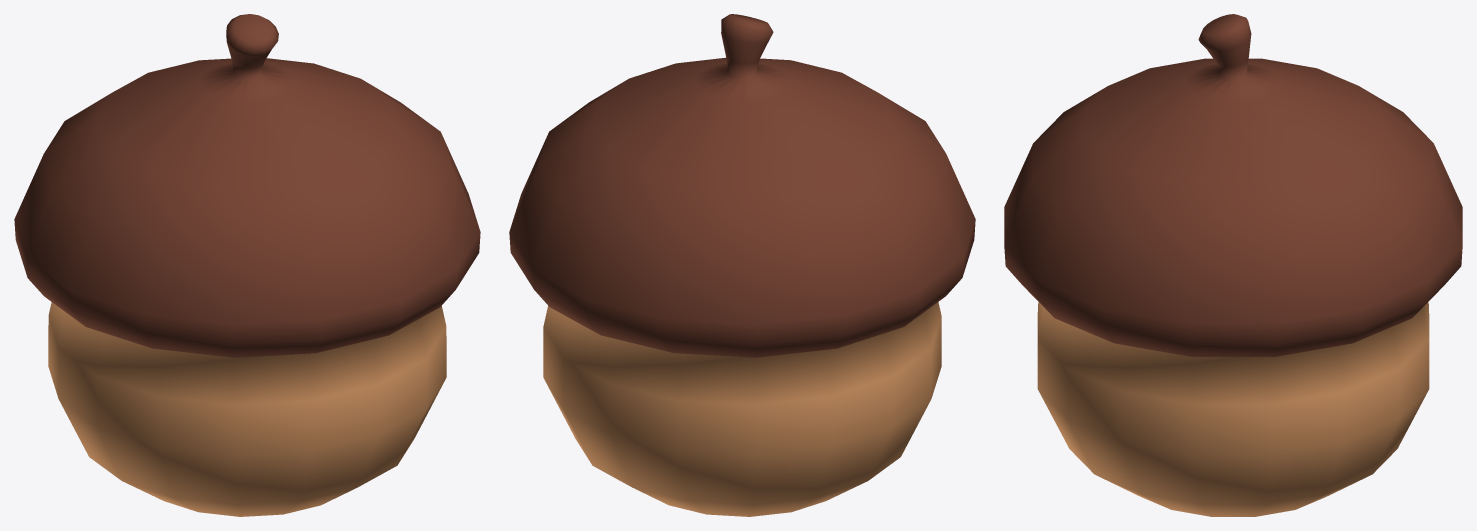
Rendered from Acorn.fbx.
3 views of the same model, side by side, from view 1: azimuth 30°, elevation 25°; view 2: azimuth 150°, elevation 25°; view 3: azimuth 270°, elevation 25° (orthographic).
Parts seen in each view (by area): view 1: Acorn; view 2: Acorn; view 3: Acorn.
Part boxes in pixels (x1,y1,x2,y2): Acorn: (14,14,480,516); Acorn: (509,14,975,516); Acorn: (1004,14,1462,516).
Bounding box in the file's own units: 229 × 267 × 229.
